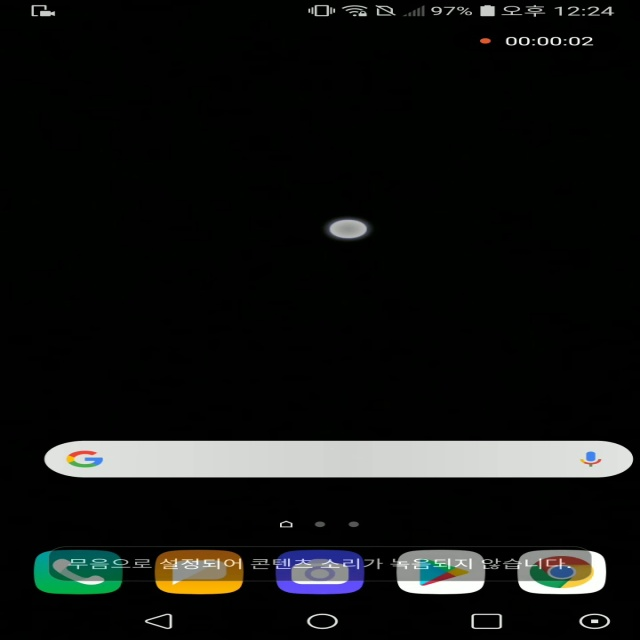Cursor: (325, 219, 369, 241)
